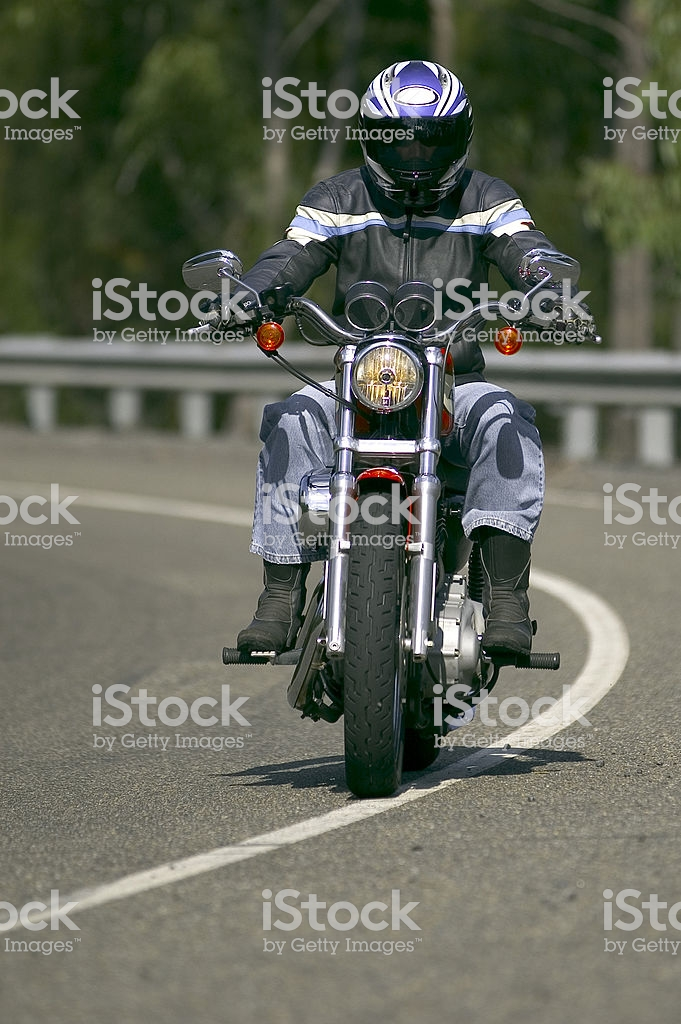helmet: (346, 68, 485, 220)
